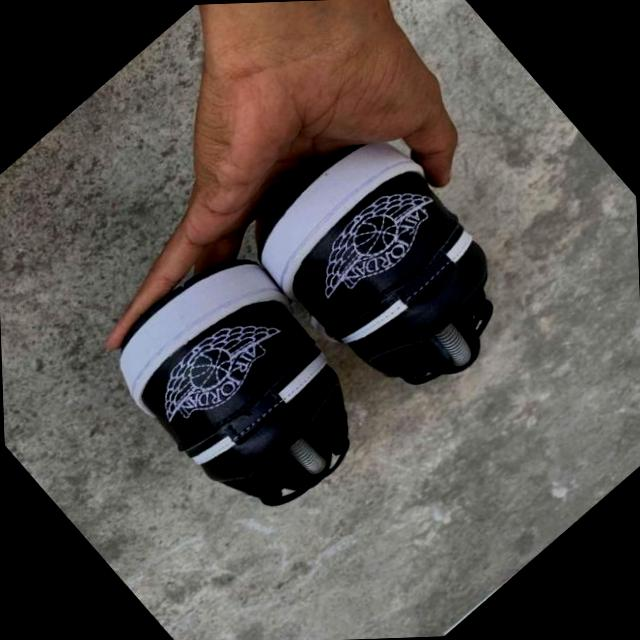nike_fake_jordan: (89, 230, 402, 552), (228, 114, 541, 435)
